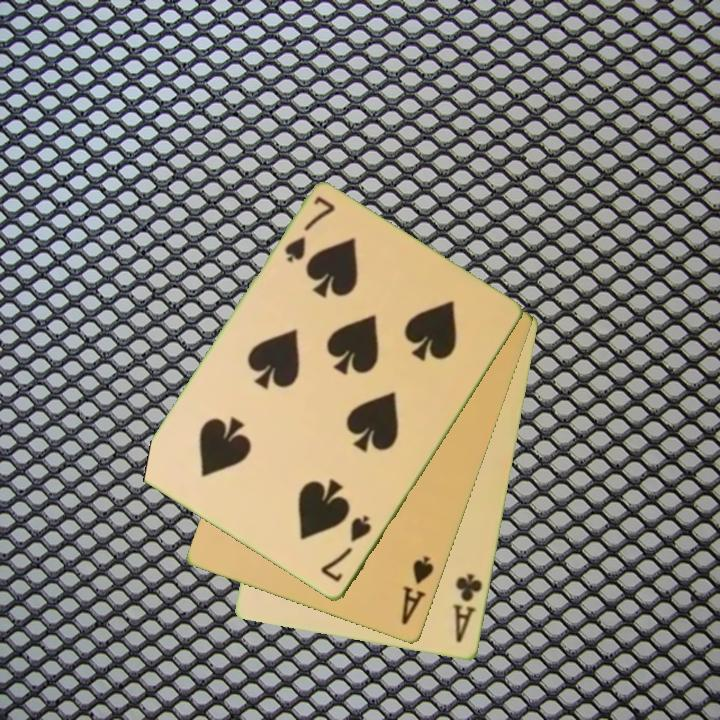7s: (317, 512, 375, 586), (281, 193, 339, 267)
Ac: (450, 570, 486, 647)
As: (398, 553, 437, 629)
